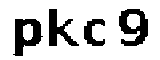9: (117, 7, 152, 49)
c: (84, 18, 108, 47)
k: (46, 4, 78, 50)
p: (13, 18, 43, 60)
